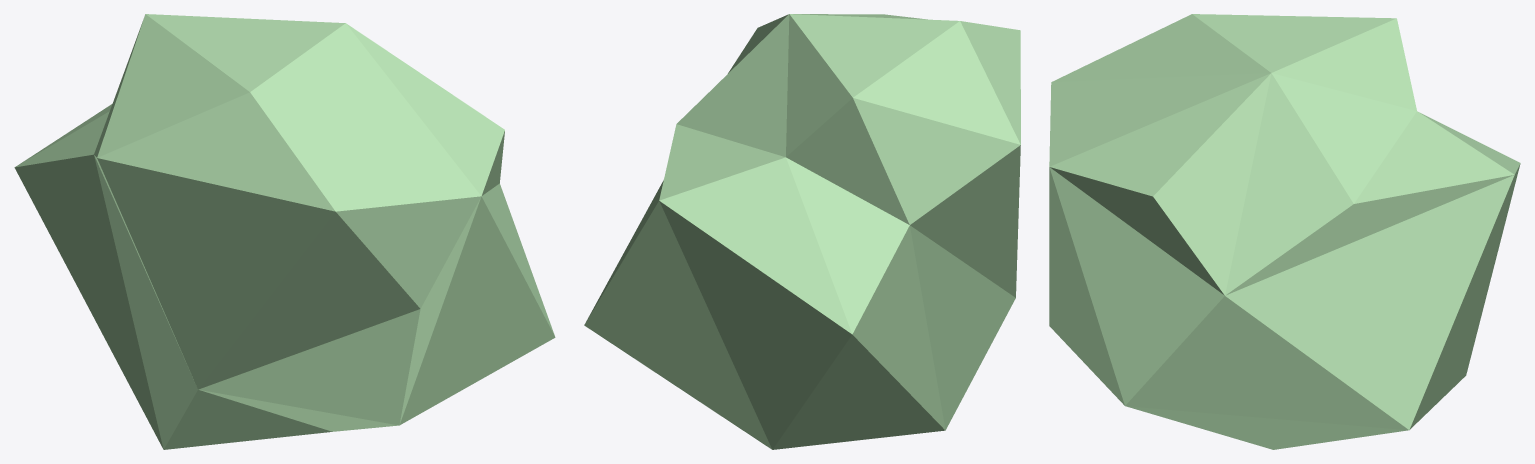
The model's file is item_uranium_chunk_s.glb.
3 views of the same model, side by side, from view 1: azimuth 30°, elevation 25°; view 2: azimuth 150°, elevation 25°; view 3: azimuth 270°, elevation 25° (orthographic). The views are drawn at different scales.
Parts seen in each view (by area): view 1: UraniumBlob_Small; view 2: UraniumBlob_Small; view 3: UraniumBlob_Small.
Boxes of the visible parts, box(x1,y1,x2,y2) form: UraniumBlob_Small: box(14, 14, 555, 449); UraniumBlob_Small: box(584, 14, 1020, 449); UraniumBlob_Small: box(1049, 14, 1520, 449).
Bounding box in the file's own units: 0.1076 × 0.1073 × 0.1198.
